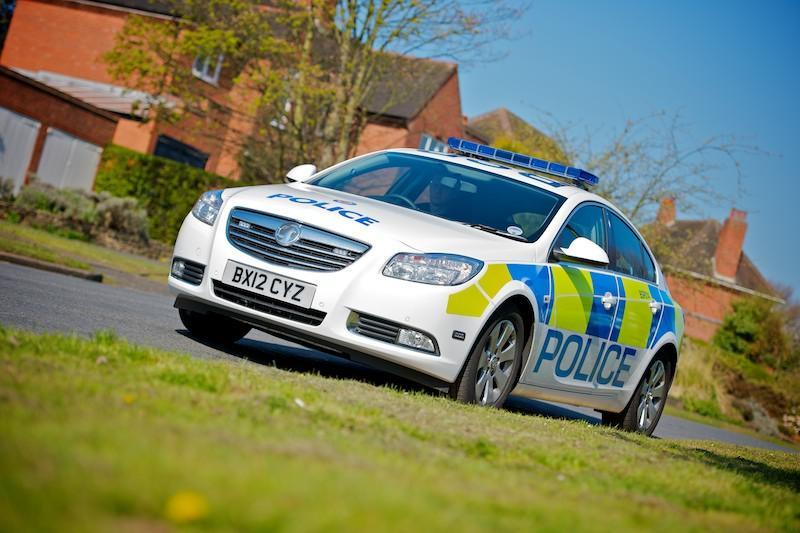Emergency-Vehicles: (183, 129, 701, 411)
